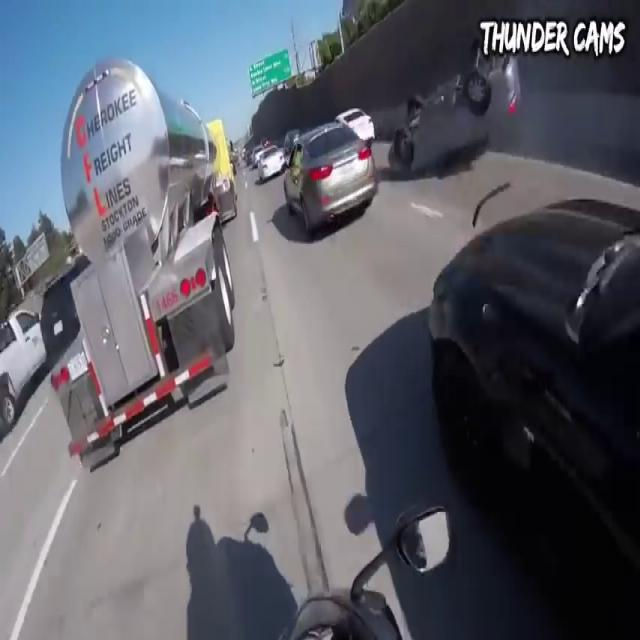accident: (386, 18, 528, 190)
